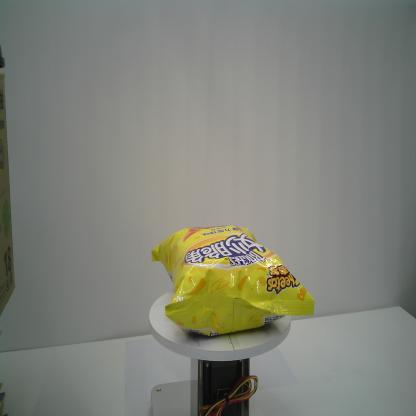Puffed Food: (150, 225, 314, 337)
